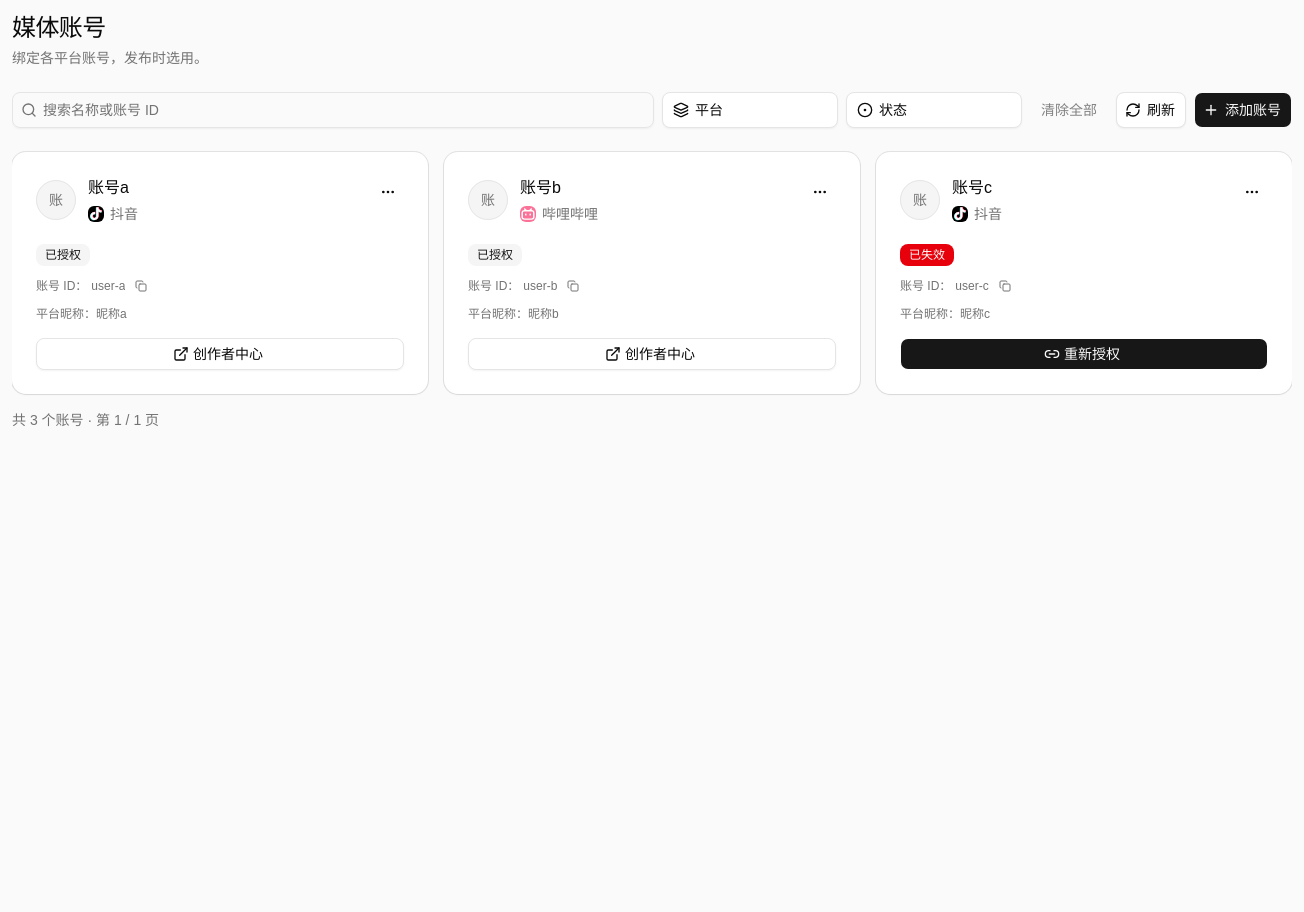
Scenario: adds an account, clears an unrelated search, and highlights it without requiring a success confirmation
The image size is (1304, 912).
Expected: the text "共 3 个账号 · 第 1 / 1 页" is shown, [12, 410, 159, 430]
Type "user-b" into the field named "搜索账号". click: point(345, 110)
box: [37, 92, 653, 128]
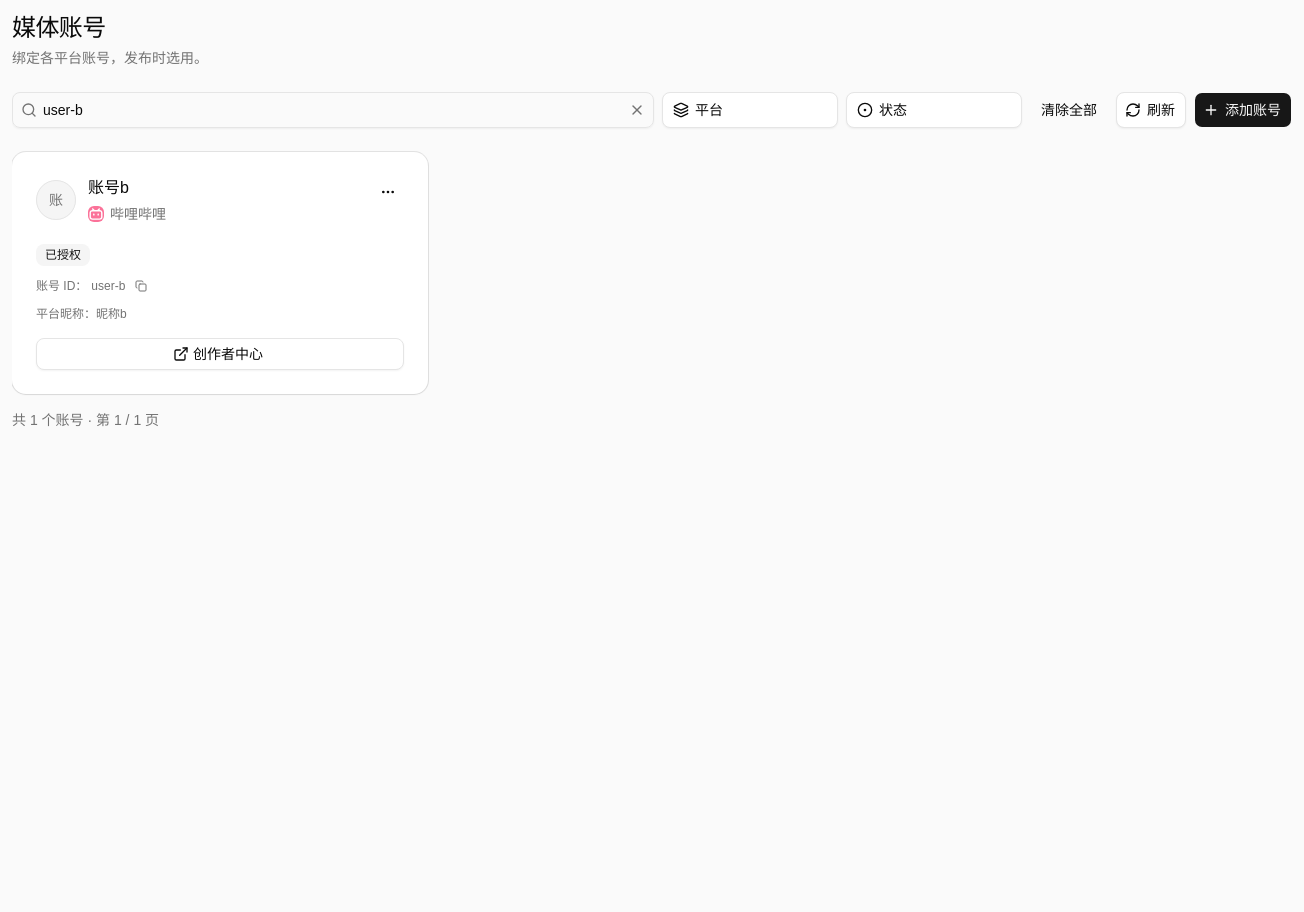
Click the button "添加账号". click: point(1243, 110)
box: [1194, 92, 1292, 128]
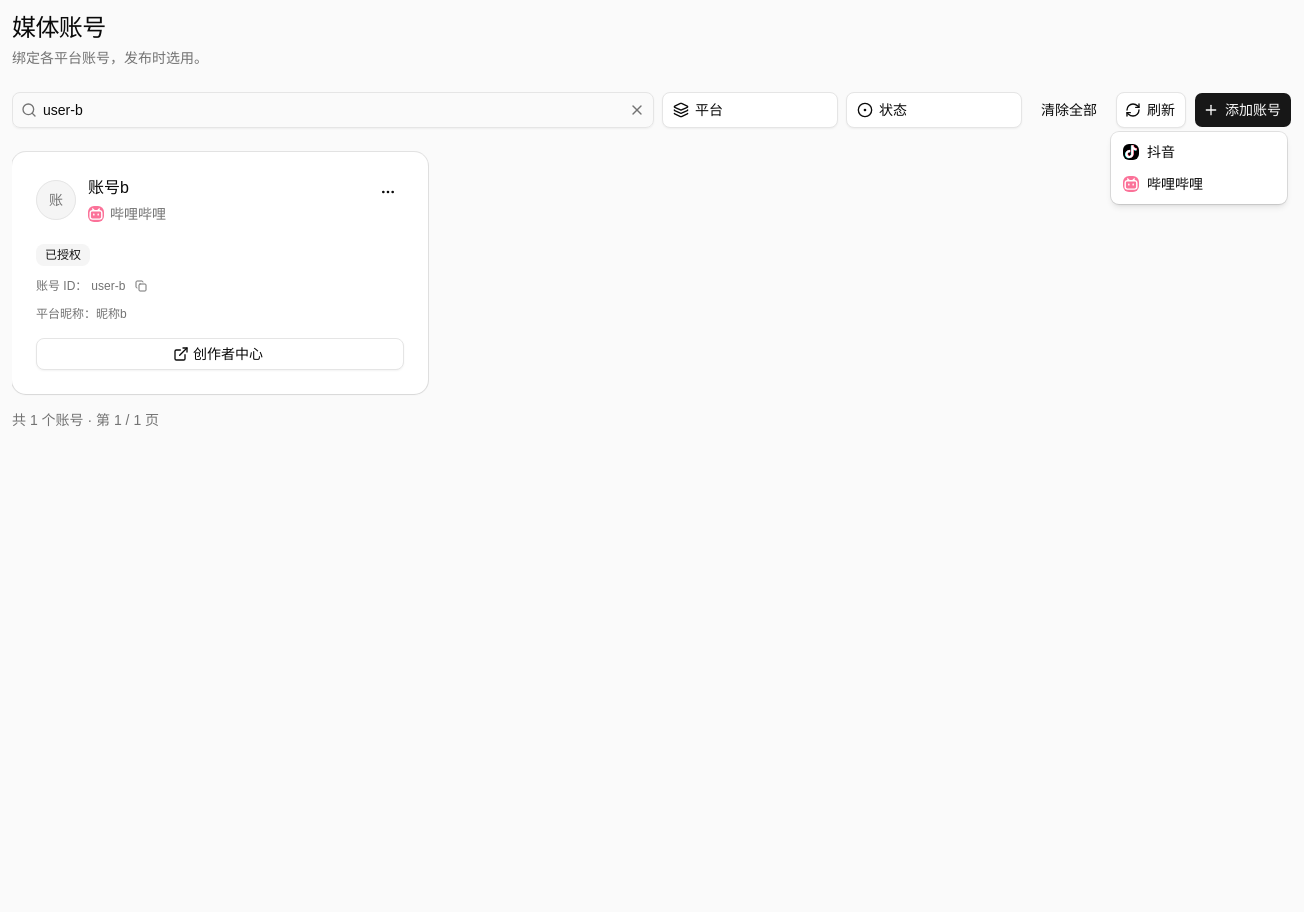
Click the menu item "抖音". click: point(1149, 152)
box: [1123, 144, 1175, 160]
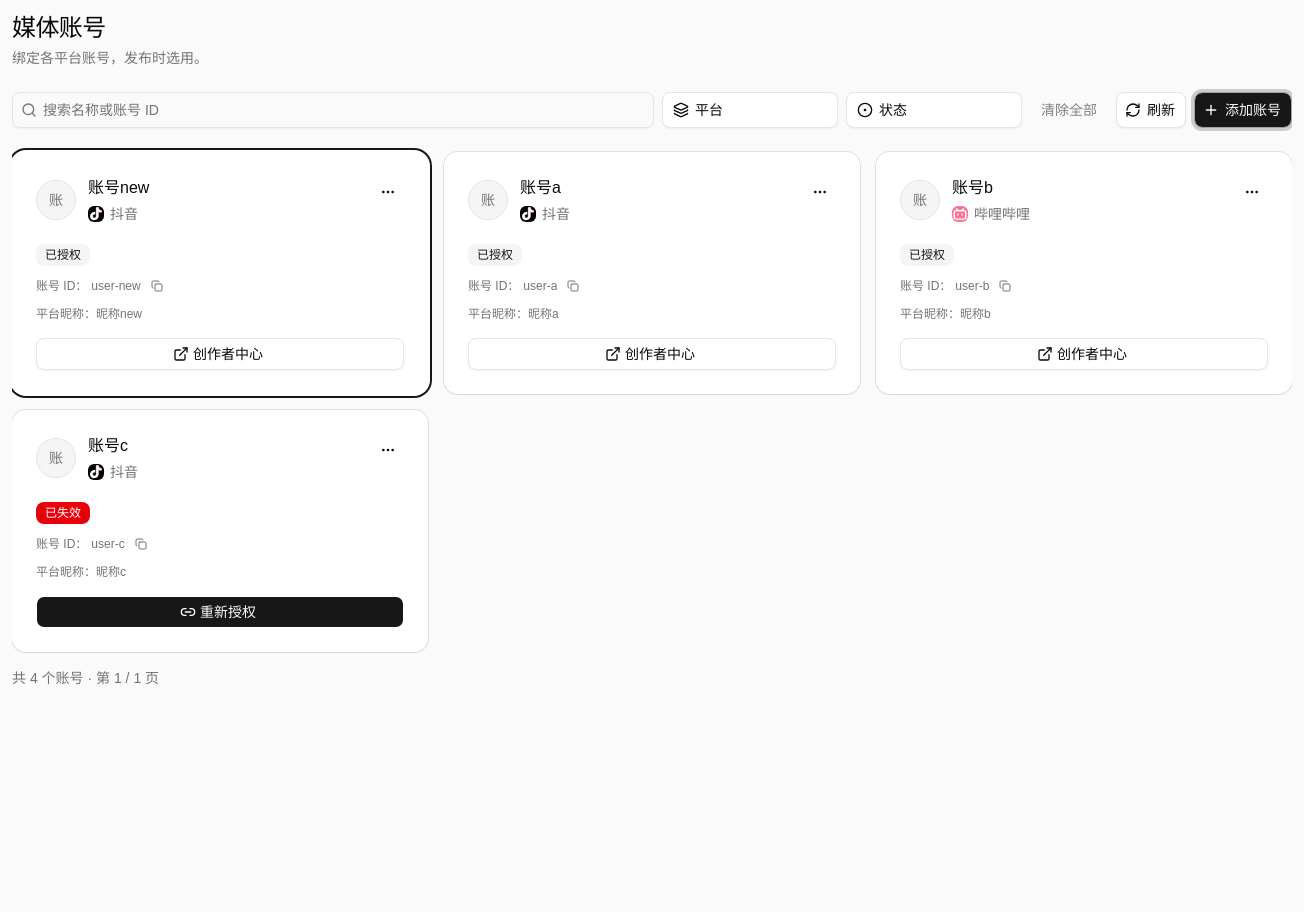
Result: the text "共 4 个账号 · 第 1 / 1 页" is shown at [12, 668, 159, 688]
